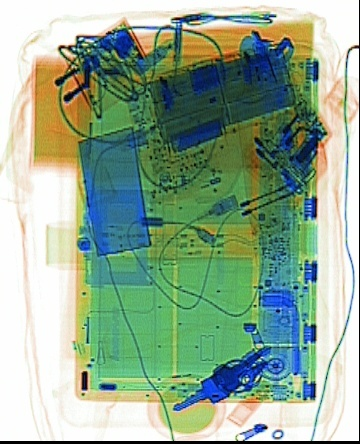powerbank: (144, 38, 297, 147)
